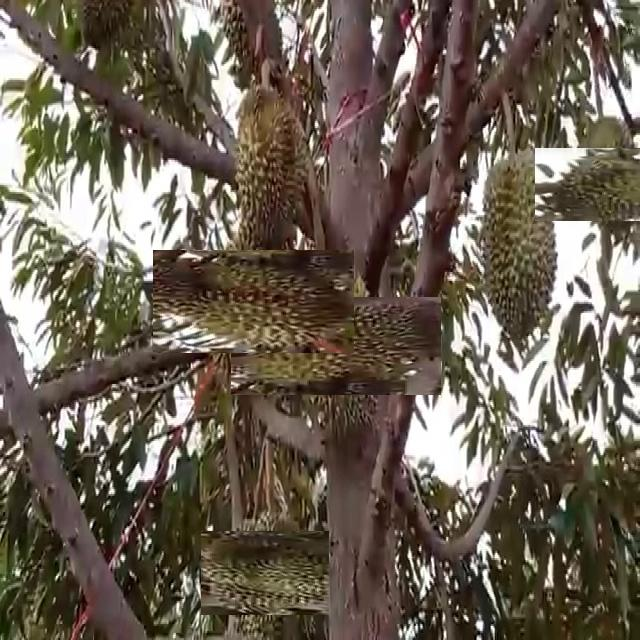durian: (259, 269, 413, 424), (177, 225, 330, 378), (475, 139, 561, 351), (231, 78, 313, 245), (212, 520, 318, 627), (551, 131, 640, 236)
